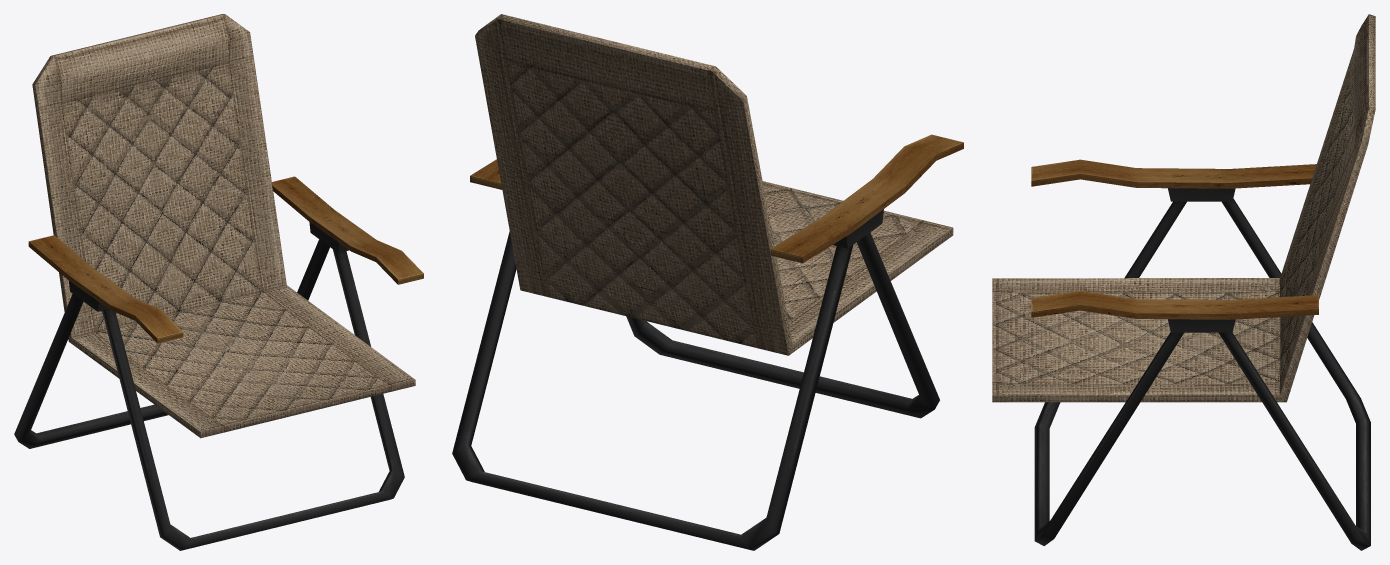
File: OutdoorChair.glb
3 views of the same model, side by side, from view 1: azimuth 30°, elevation 25°; view 2: azimuth 150°, elevation 25°; view 3: azimuth 270°, elevation 25° (orthographic). The views are drawn at different scales.
Visible parts, largest first — view 1: outdoor chair; view 2: outdoor chair; view 3: outdoor chair.
Part boxes in pixels (x1=…): outdoor chair: x1=14, y1=14, x2=423, y2=550; outdoor chair: x1=452, y1=14, x2=963, y2=550; outdoor chair: x1=992, y1=14, x2=1375, y2=550.
Size of the model in its own units: 0.62 by 0.8537 by 0.6919.
Materials: 1 (1 with a texture image).
